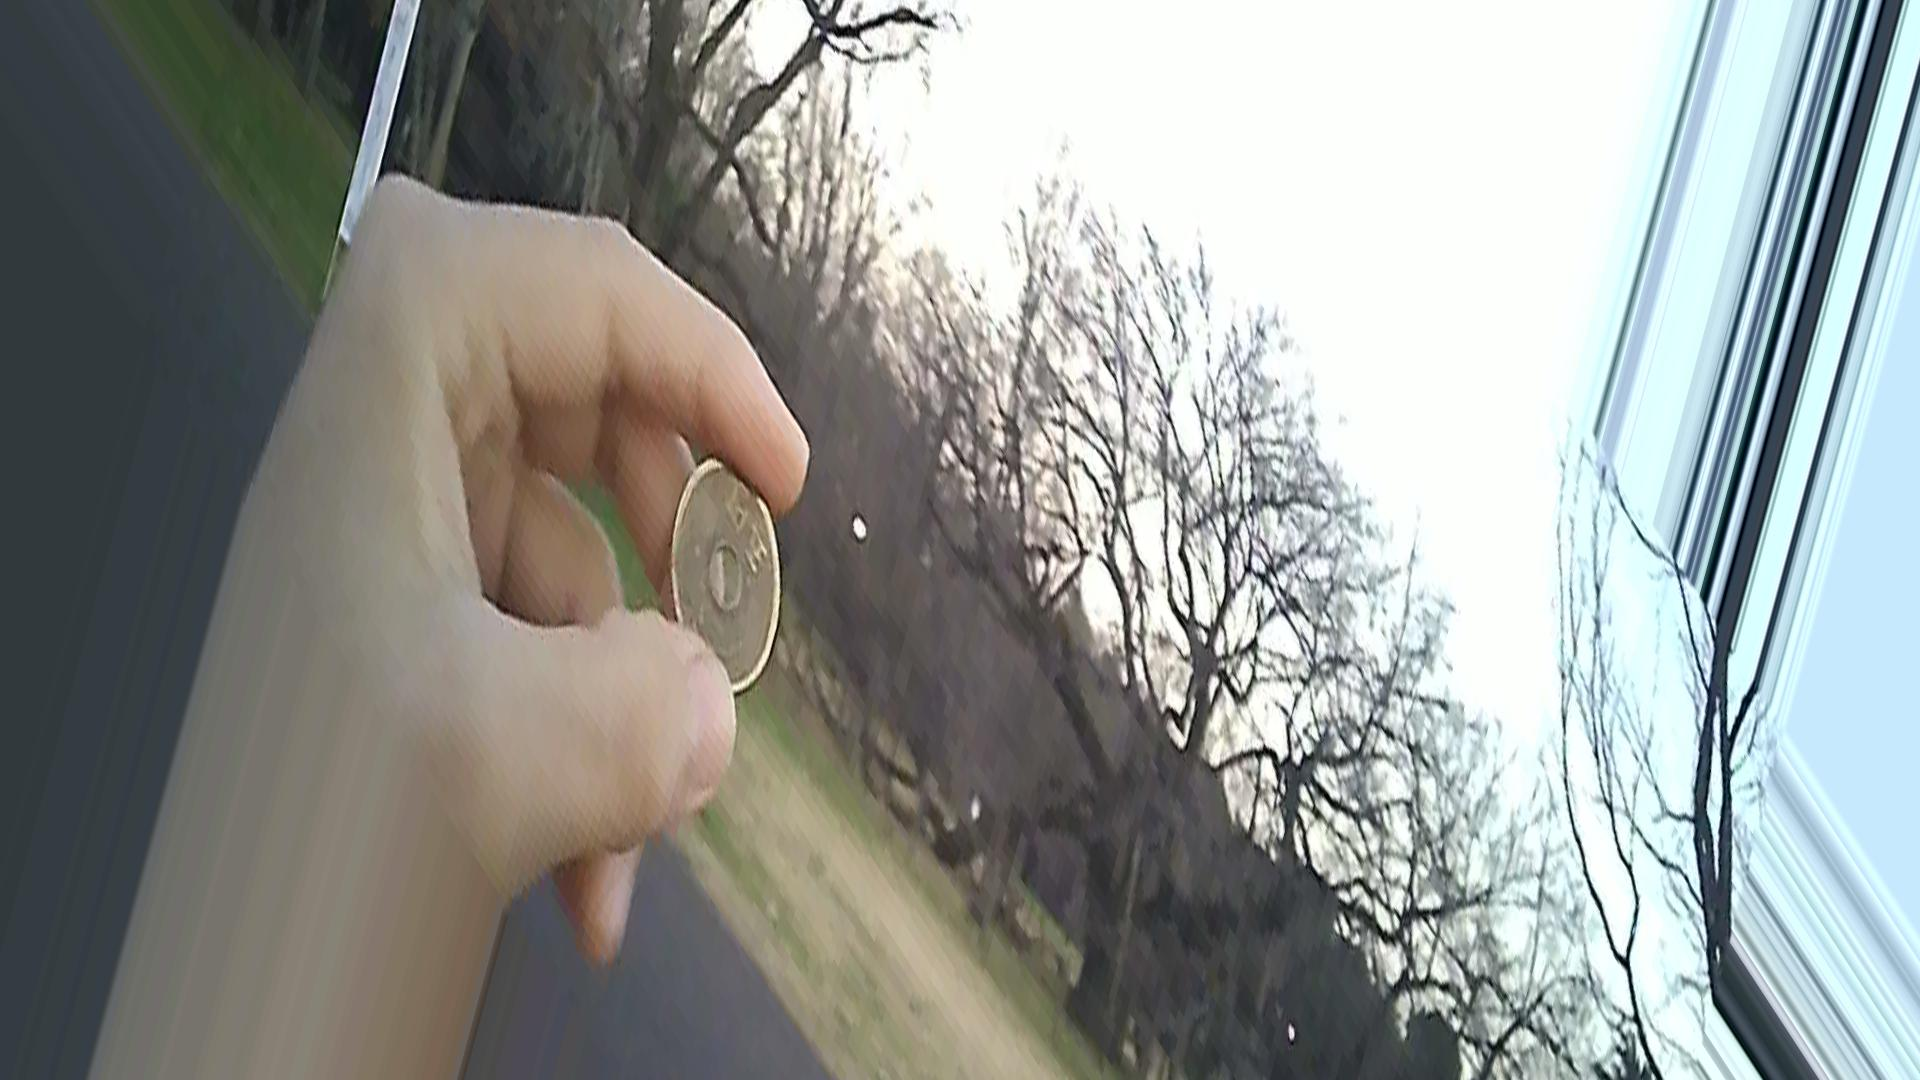5 Yen: (659, 440, 793, 728)
